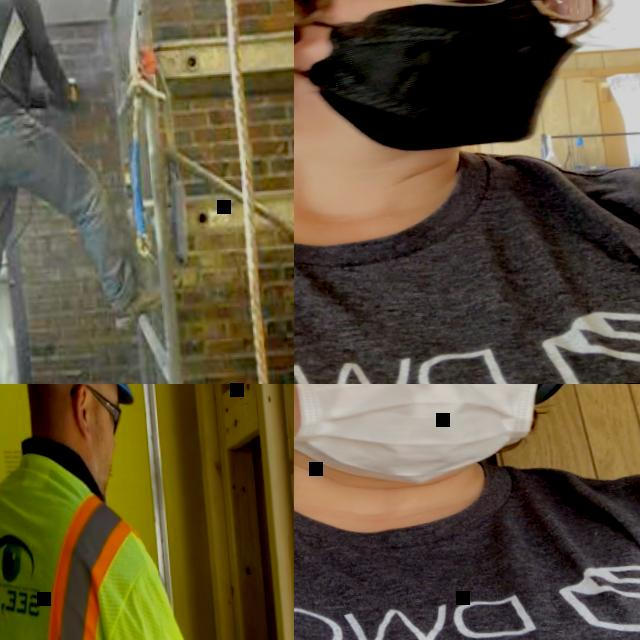helmet: (0, 384, 134, 417)
mask: (294, 0, 585, 161), (294, 384, 555, 487)
no_mask: (83, 413, 118, 500)
no_vest: (294, 133, 640, 384), (294, 442, 640, 640), (0, 0, 39, 135)
person: (294, 0, 640, 384), (294, 384, 640, 640), (0, 384, 279, 640), (0, 0, 177, 384)
vest: (0, 450, 228, 640)
